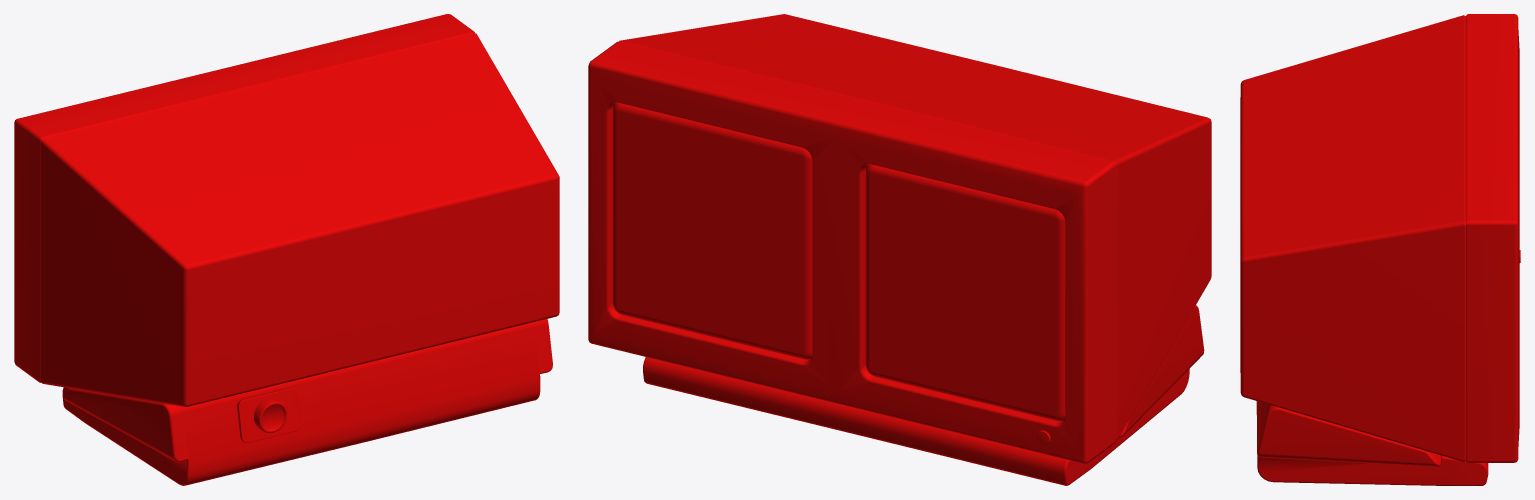
File: Equipment_39.fbx
3 renders of one model, left to right at view 1: azimuth 30°, elevation 25°; view 2: azimuth 150°, elevation 25°; view 3: azimuth 270°, elevation 25°, orthographic. The views are drawn at different scales.
Visible parts, largest first — view 1: L24:polySurface1496; view 2: L24:polySurface1496; view 3: L24:polySurface1496.
Part boxes in pixels (<box>): L24:polySurface1496: <box>14,14,559,485</box>; L24:polySurface1496: <box>588,14,1211,485</box>; L24:polySurface1496: <box>1240,14,1520,485</box>.
Size of the model in its own units: 73.44 by 45.9 by 41.56.
